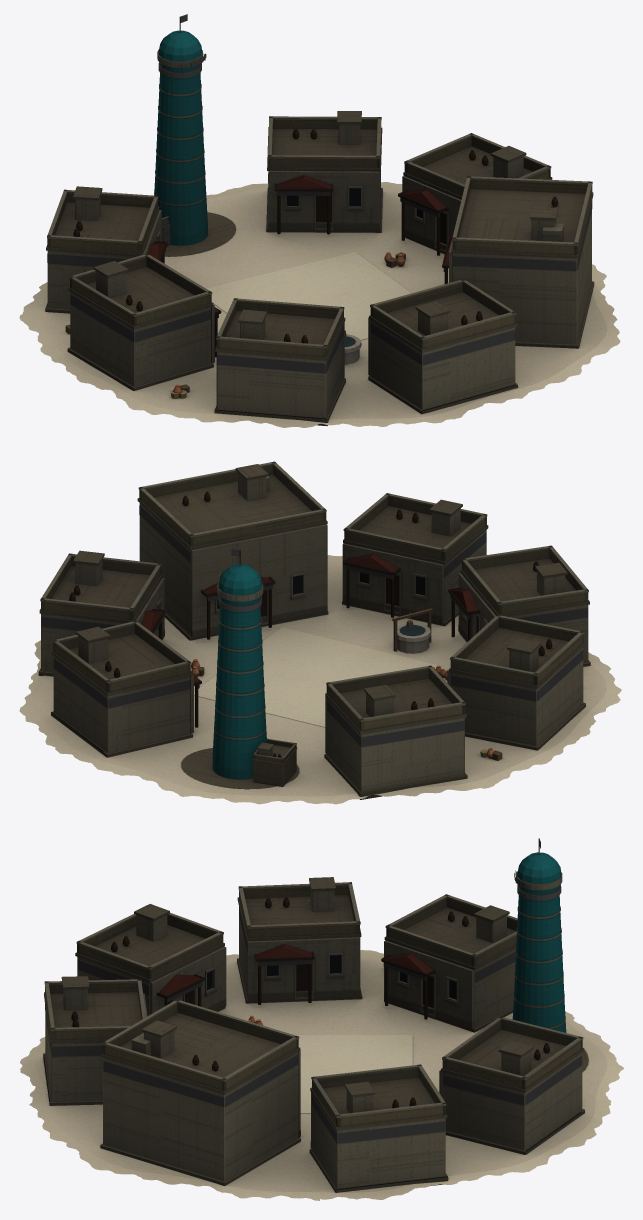
File: gunpowder-town-small-b-steppe.glb
The picture shows the model from 3 angles, top to bottom: view 1: azimuth 30°, elevation 25°; view 2: azimuth 150°, elevation 25°; view 3: azimuth 270°, elevation 25°; orthographic projection.
Visible parts, largest first — view 1: LOD0; view 2: LOD0; view 3: LOD0.
Boxes of the visible parts, bbox=[...] form: LOD0: bbox=[19, 14, 620, 427]; LOD0: bbox=[19, 461, 621, 804]; LOD0: bbox=[20, 838, 623, 1200].
Size of what is drawn, in the model's own units: 3.95 by 1.6 by 3.98.
3 materials, 3 textured.
